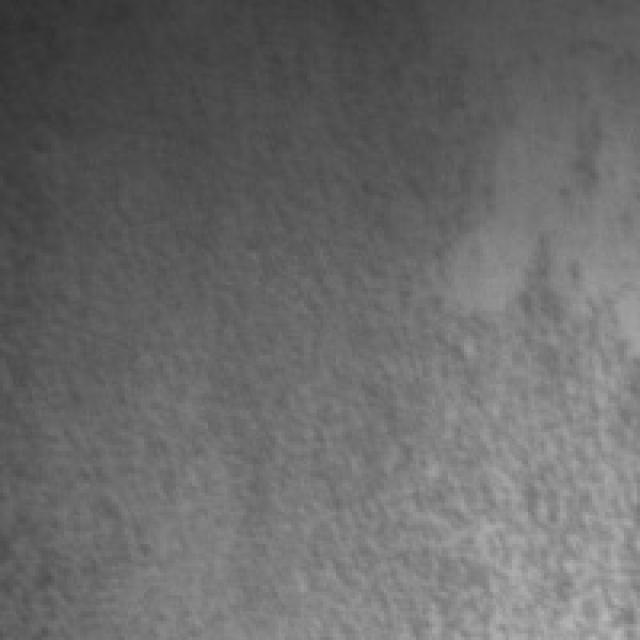pitted_surface: (3, 0, 640, 634)
